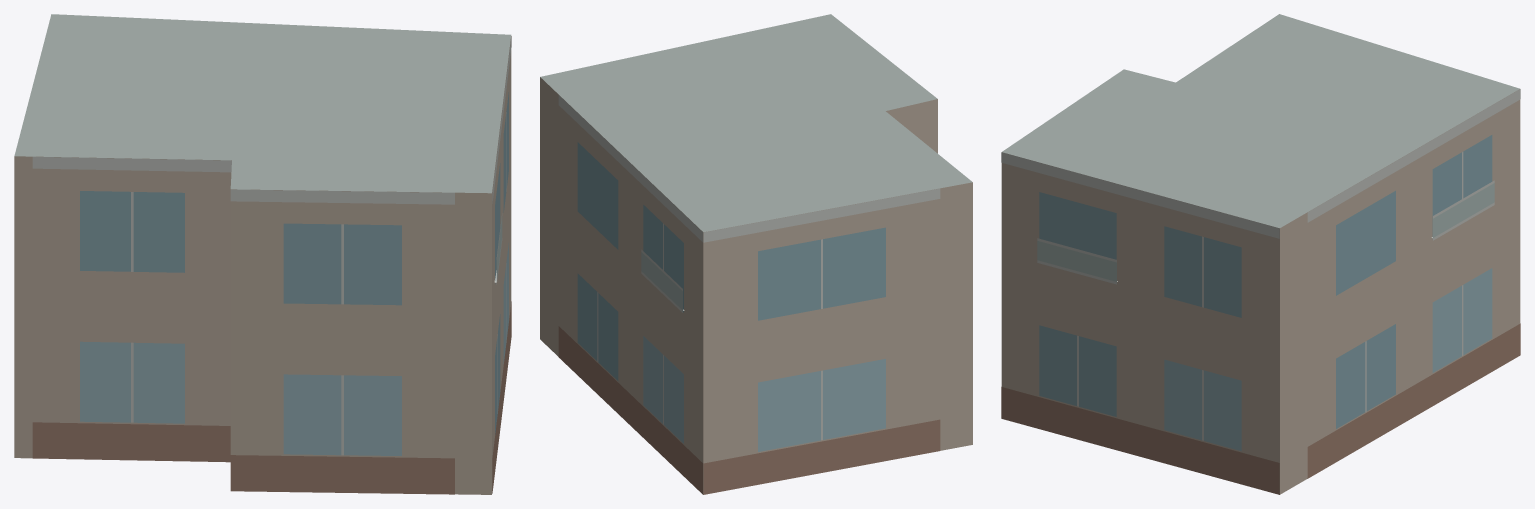
File: survey-upis-32570089.glb
3 renders of one model, left to right at view 1: azimuth 30°, elevation 25°; view 2: azimuth 150°, elevation 25°; view 3: azimuth 270°, elevation 25°, orthographic. The views are drawn at different scales.
Visible parts, largest first — view 1: survey-upis-32570089.tmp; view 2: survey-upis-32570089.tmp; view 3: survey-upis-32570089.tmp.
Boxes of the visible parts, box(x1,y1,x2,y2) form: survey-upis-32570089.tmp: box(14, 14, 511, 494); survey-upis-32570089.tmp: box(540, 14, 972, 494); survey-upis-32570089.tmp: box(1001, 14, 1520, 494).
Size of the model in its own units: 10.52 by 6.1 by 10.77.
